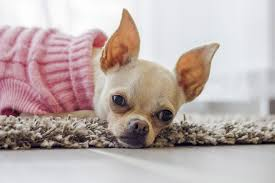chihuahua: (1, 7, 225, 152)
